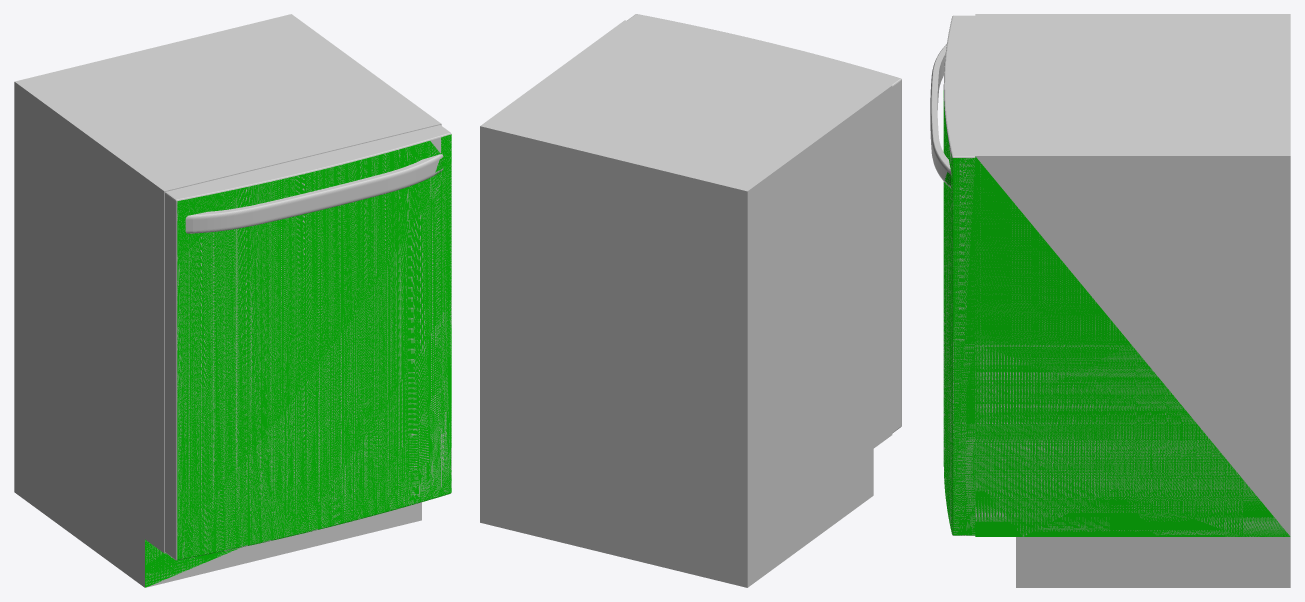
Rendered from combined_separated.obj.
3 renders of one model, left to right at view 1: azimuth 30°, elevation 25°; view 2: azimuth 150°, elevation 25°; view 3: azimuth 270°, elevation 25°, orthographic. The views are drawn at different scales.
Bounding box in the file's own units: 1.05 × 1.49 × 1.12.
